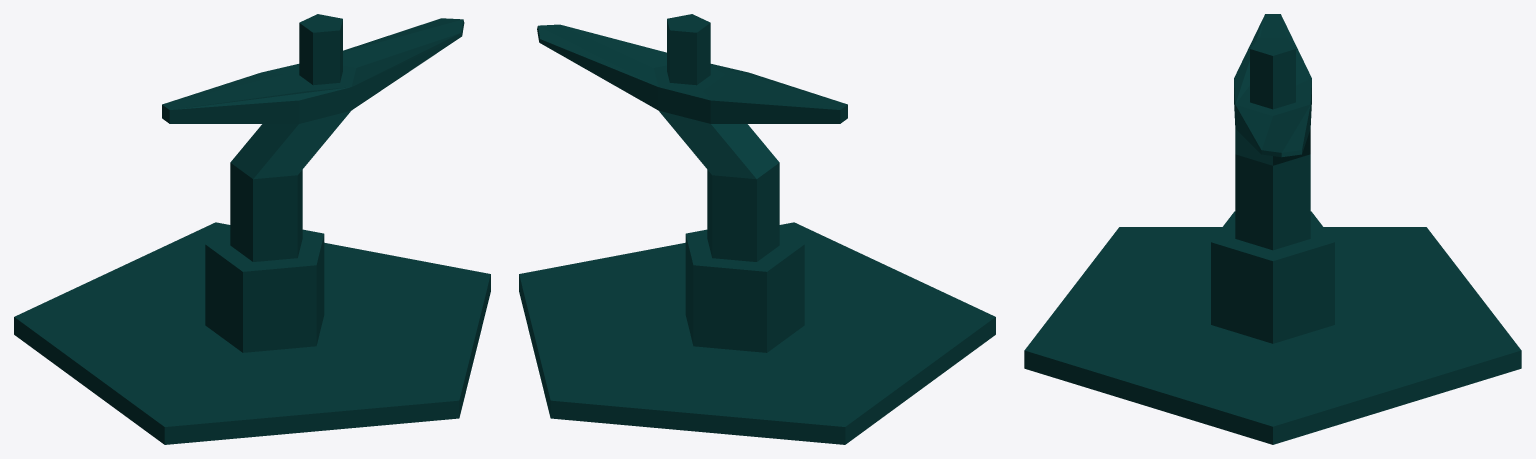
The model's file is Globusständer.fbx.
The picture shows the model from 3 angles, left to right: view 1: azimuth 30°, elevation 25°; view 2: azimuth 150°, elevation 25°; view 3: azimuth 270°, elevation 25°; orthographic projection.
Parts seen in each view (by area): view 1: Scheibe; view 2: Scheibe; view 3: Scheibe.
Boxes of the visible parts, bbox=[...] form: Scheibe: bbox=[14, 14, 490, 444]; Scheibe: bbox=[519, 14, 995, 444]; Scheibe: bbox=[1024, 14, 1521, 444].
Size of the model in its own units: 181 by 133 by 190.
